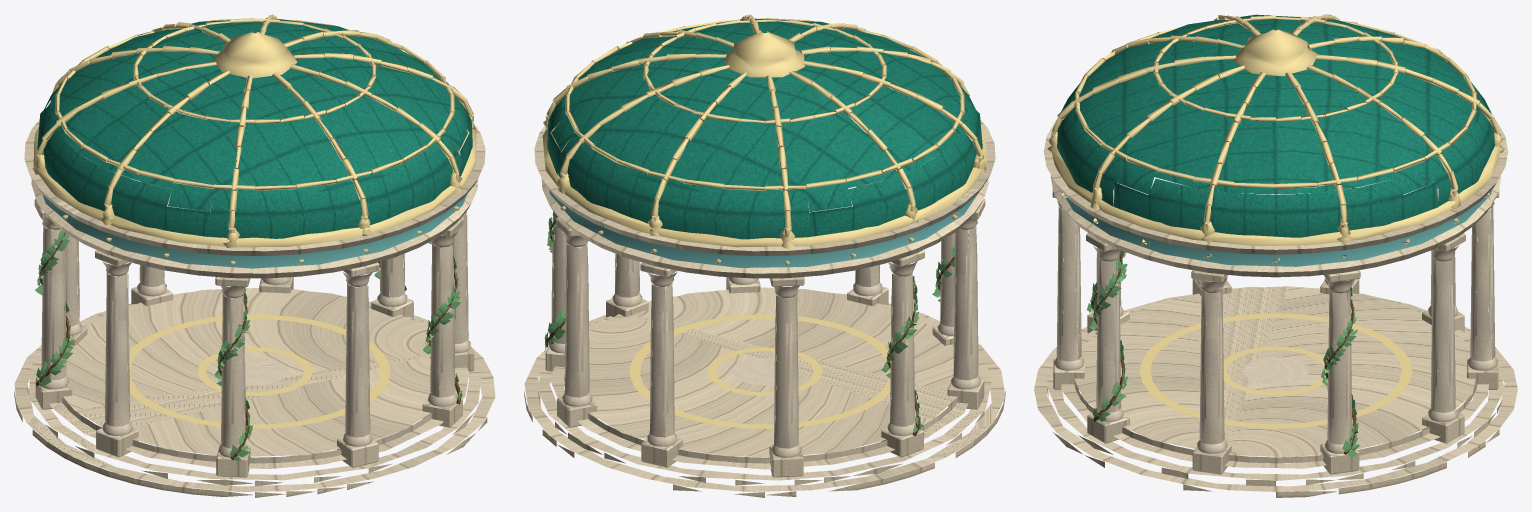
The model's file is gazebo.glb.
The picture shows the model from 3 angles, left to right: view 1: azimuth 30°, elevation 25°; view 2: azimuth 150°, elevation 25°; view 3: azimuth 270°, elevation 25°; orthographic projection.
Parts seen in each view (by area): view 1: gazebo, gazebo-platform, gazebo-columns; view 2: gazebo, gazebo-platform, gazebo-columns; view 3: gazebo, gazebo-platform, gazebo-columns.
Boxes of the visible parts, x1=… form: gazebo: x1=24, y1=14, x2=485, y2=460; gazebo-platform: x1=14, y1=288, x2=495, y2=497; gazebo-columns: x1=34, y1=156, x2=474, y2=477; gazebo: x1=534, y1=14, x2=995, y2=435; gazebo-platform: x1=524, y1=287, x2=1005, y2=497; gazebo-columns: x1=545, y1=156, x2=985, y2=477; gazebo: x1=1043, y1=14, x2=1508, y2=457; gazebo-platform: x1=1034, y1=286, x2=1517, y2=497; gazebo-columns: x1=1052, y1=183, x2=1499, y2=474.
Bounding box in the file's own units: 5.5 × 4.59 × 5.5.
7 materials, 4 textured.
